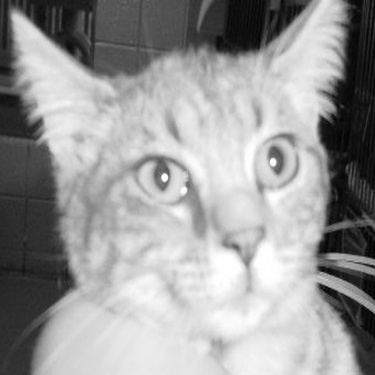cat: (14, 5, 361, 371)
